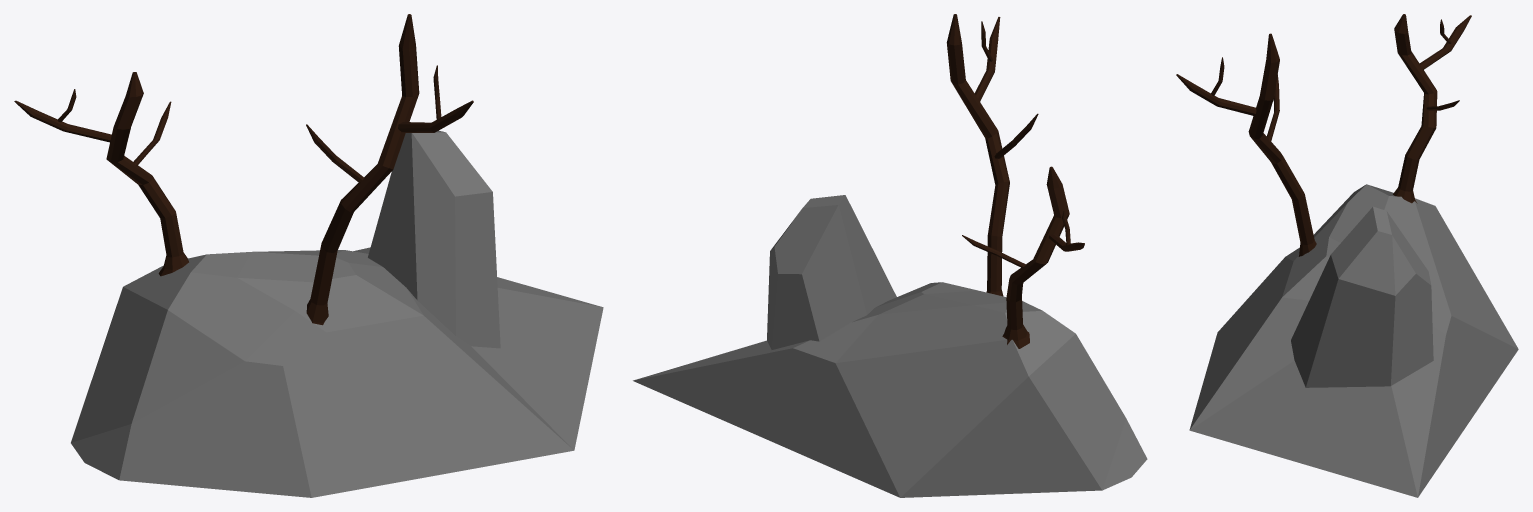
The model's file is Rock_Tree_2.fbx.
3 views of the same model, side by side, from view 1: azimuth 30°, elevation 25°; view 2: azimuth 150°, elevation 25°; view 3: azimuth 270°, elevation 25° (orthographic). The views are drawn at different scales.
Visible parts, largest first — view 1: Icosphere, Cylinder.001, Cylinder.002; view 2: Icosphere, Cylinder.001, Cylinder.002; view 3: Icosphere, Cylinder.001, Cylinder.002.
Boxes of the visible parts, box(x1,y1,x2,y2) form: Icosphere: box(71, 130, 603, 497); Cylinder.001: box(306, 14, 473, 325); Cylinder.002: box(14, 72, 188, 276); Icosphere: box(633, 195, 1147, 497); Cylinder.001: box(946, 14, 1038, 296); Cylinder.002: box(962, 166, 1084, 348); Icosphere: box(1189, 184, 1518, 497); Cylinder.001: box(1176, 33, 1316, 256); Cylinder.002: box(1393, 14, 1471, 203).
Size of the model in its own units: 2370 by 1740 by 1542.
